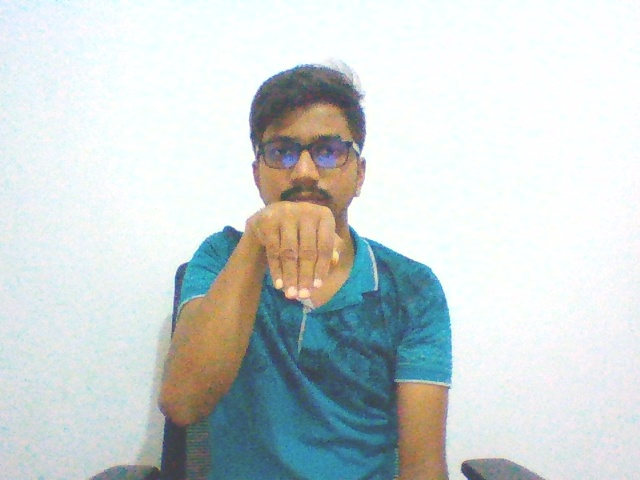Squirrel: (242, 195, 348, 306)
